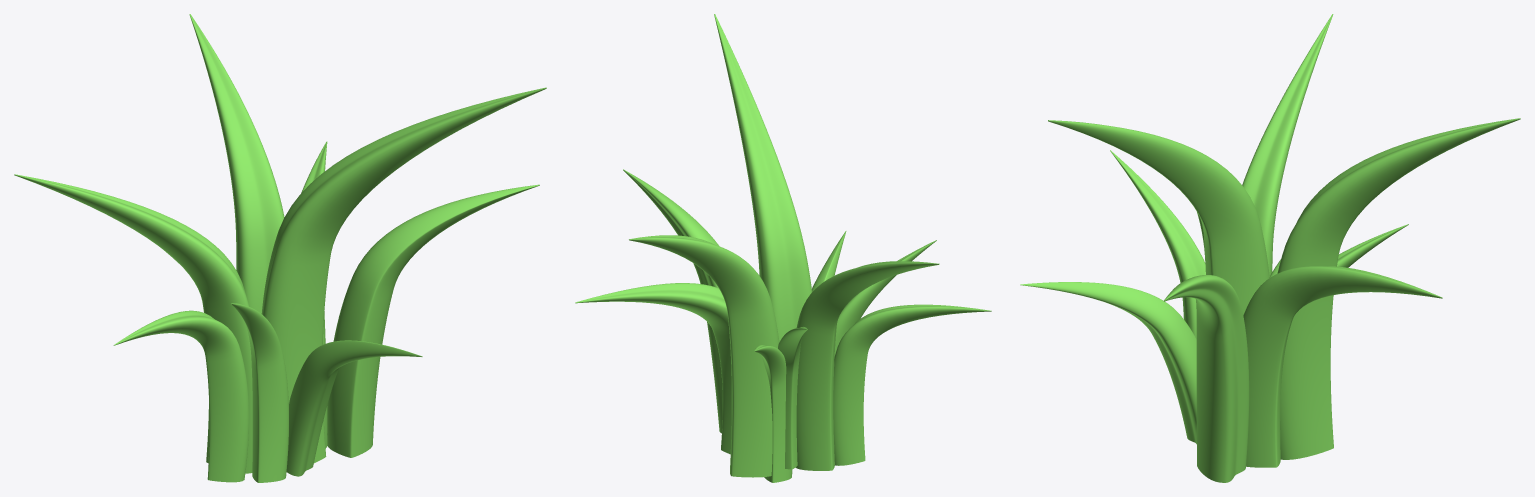
The model's file is Aleovera.fbx.
3 views of the same model, side by side, from view 1: azimuth 30°, elevation 25°; view 2: azimuth 150°, elevation 25°; view 3: azimuth 270°, elevation 25° (orthographic). The views are drawn at different scales.
Visible parts, largest first — view 1: NurbsPath.009; view 2: NurbsPath.009; view 3: NurbsPath.009.
Boxes of the visible parts, x1,y1,x2,y2 form: NurbsPath.009: [14, 14, 546, 482]; NurbsPath.009: [575, 14, 991, 482]; NurbsPath.009: [1020, 14, 1520, 482].
Bounding box in the file's own units: 538 × 469 × 505.
